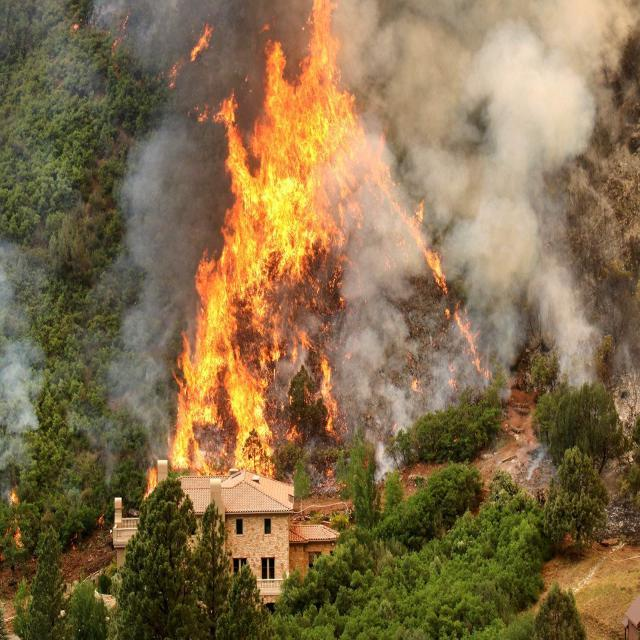Fire: (136, 0, 509, 519)
Smoke: (322, 0, 640, 497), (83, 0, 298, 522), (0, 212, 60, 514)
